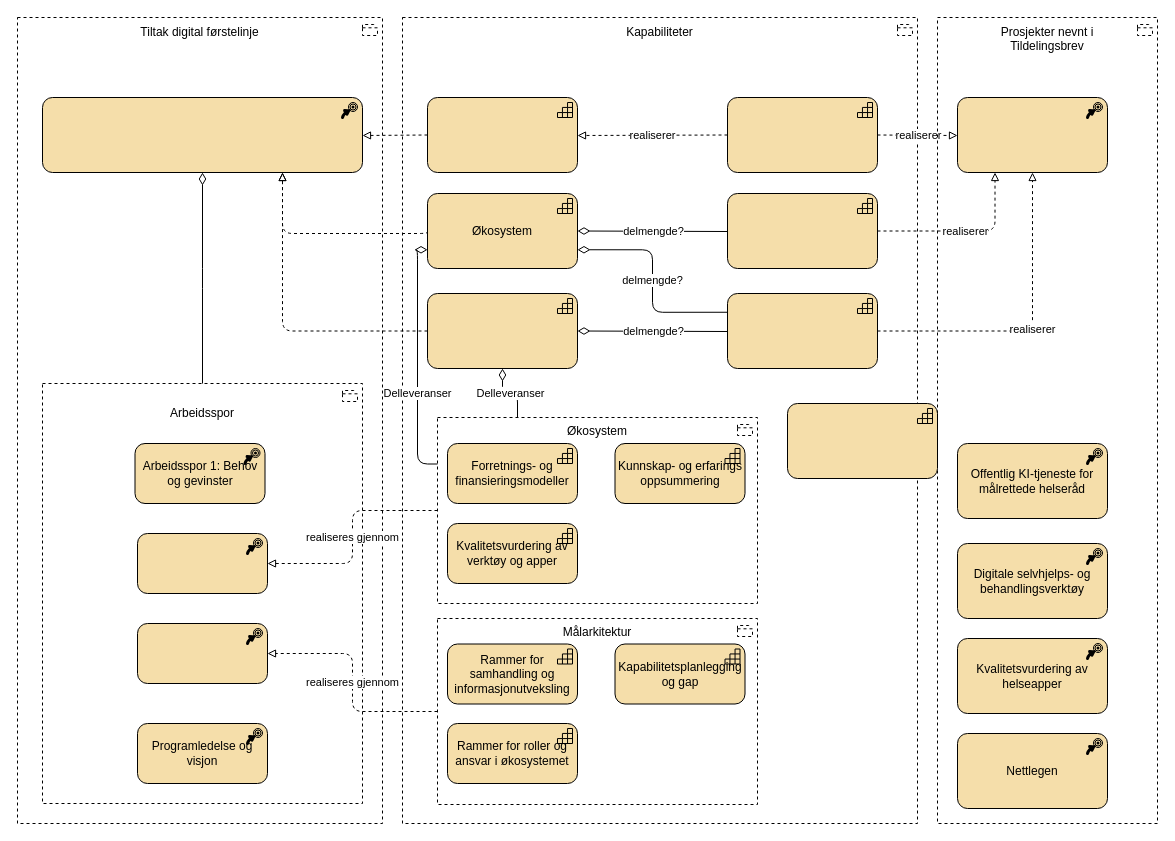
The diagram is 1175 pixels wide and 841 high, and some of its shapes have lost their labels. Each missing label, with the centre of its shape:
Anskaffelsesstrategi – selvhjelpsverktøy: (802,330)
Arbeidsspor 3: Arkitektur: (202,653)
Arbeidssport 2: Økosystem: (202,563)
Digital veiviser inn til helsetjenestene: (502,134)
Digitale løsninger for psykisk helse/rus: (1032,134)
Digitale selvhjelps og behandlingsverktøy: (502,330)
Kommunikasjon digitale verktøy: (802,230)
Nasjonal veiviser konsept 12c: (802,134)
Satsing Digital Førstelinje: (202,134)
Test: (862,440)
